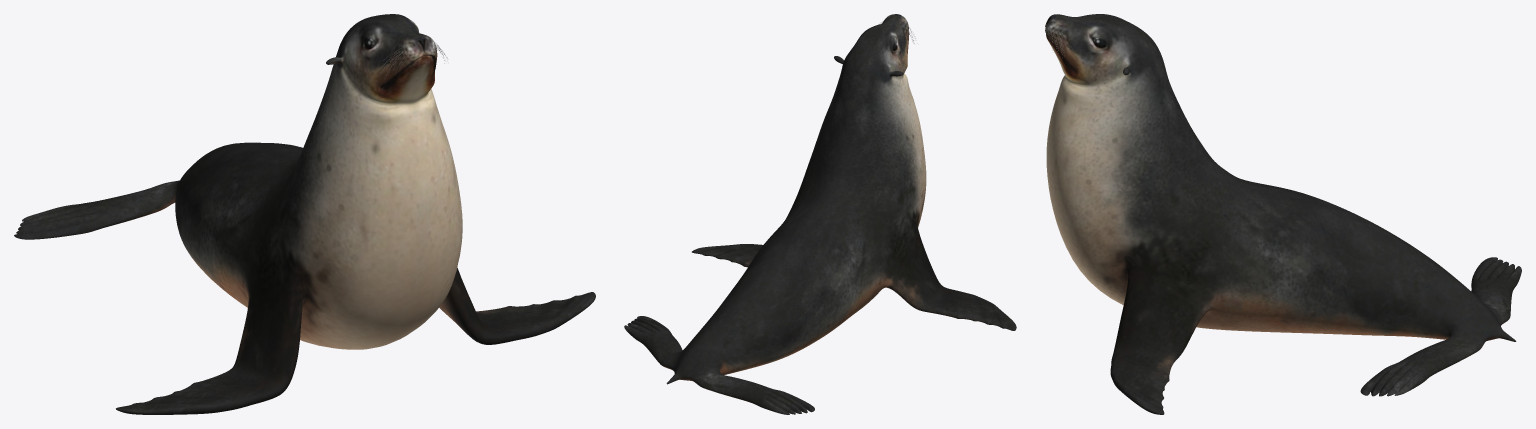
Rendered from sealion.fbx.
3 views of the same model, side by side, from view 1: azimuth 30°, elevation 25°; view 2: azimuth 150°, elevation 25°; view 3: azimuth 270°, elevation 25° (orthographic). The views are drawn at different scales.
Parts seen in each view (by area): view 1: 10041_sealion_v1_L3; view 2: 10041_sealion_v1_L3; view 3: 10041_sealion_v1_L3.
Part boxes in pixels (x1,y1,x2,y2): 10041_sealion_v1_L3: [14, 14, 595, 414]; 10041_sealion_v1_L3: [624, 14, 1016, 414]; 10041_sealion_v1_L3: [1045, 14, 1521, 414].
Bounding box in the file's own units: 103 × 75.21 × 107.
1 material, 1 textured.
